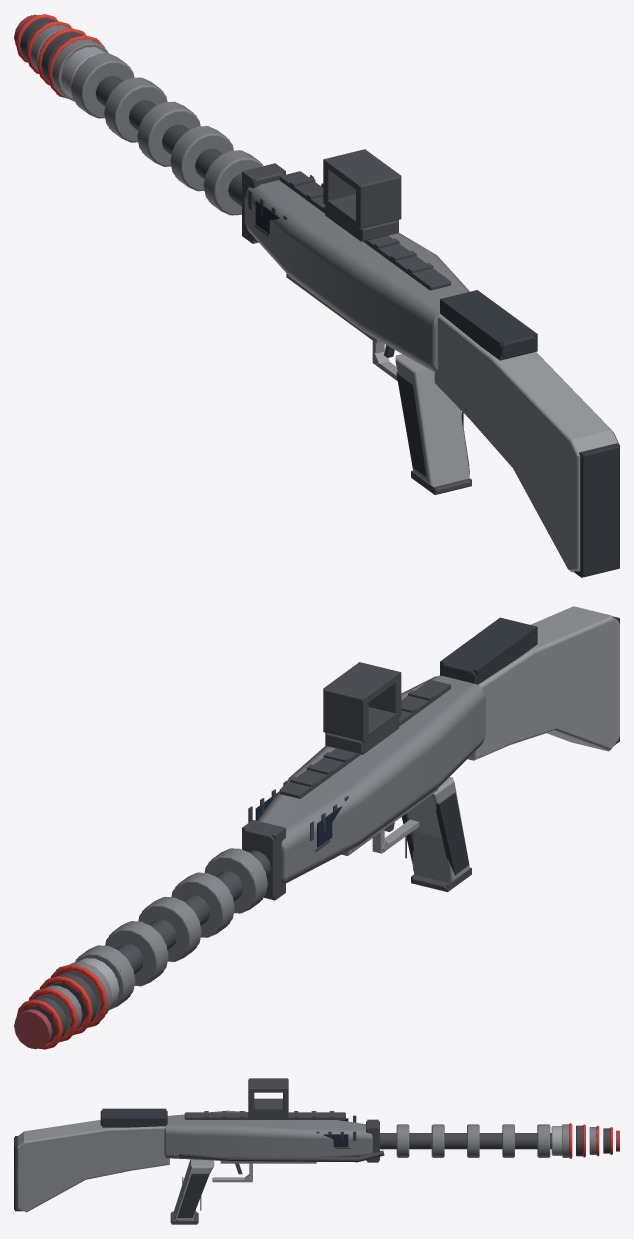
The model's file is e_laser.glb.
The picture shows the model from 3 angles, top to bottom: view 1: azimuth 30°, elevation 25°; view 2: azimuth 150°, elevation 25°; view 3: azimuth 270°, elevation 25°; orthographic projection. The views are drawn at different scales.
Parts seen in each view (by area): view 1: L0, L1; view 2: L0, L1; view 3: L0, L1.
Part boxes in pixels (x1,y1,x2,y2): L0: [14, 14, 619, 576]; L1: [19, 14, 619, 577]; L0: [14, 606, 619, 1049]; L1: [14, 617, 619, 1048]; L0: [14, 1078, 619, 1223]; L1: [15, 1078, 619, 1224].
Bounding box in the file's own units: 0.0783 × 0.2349 × 0.9468.
